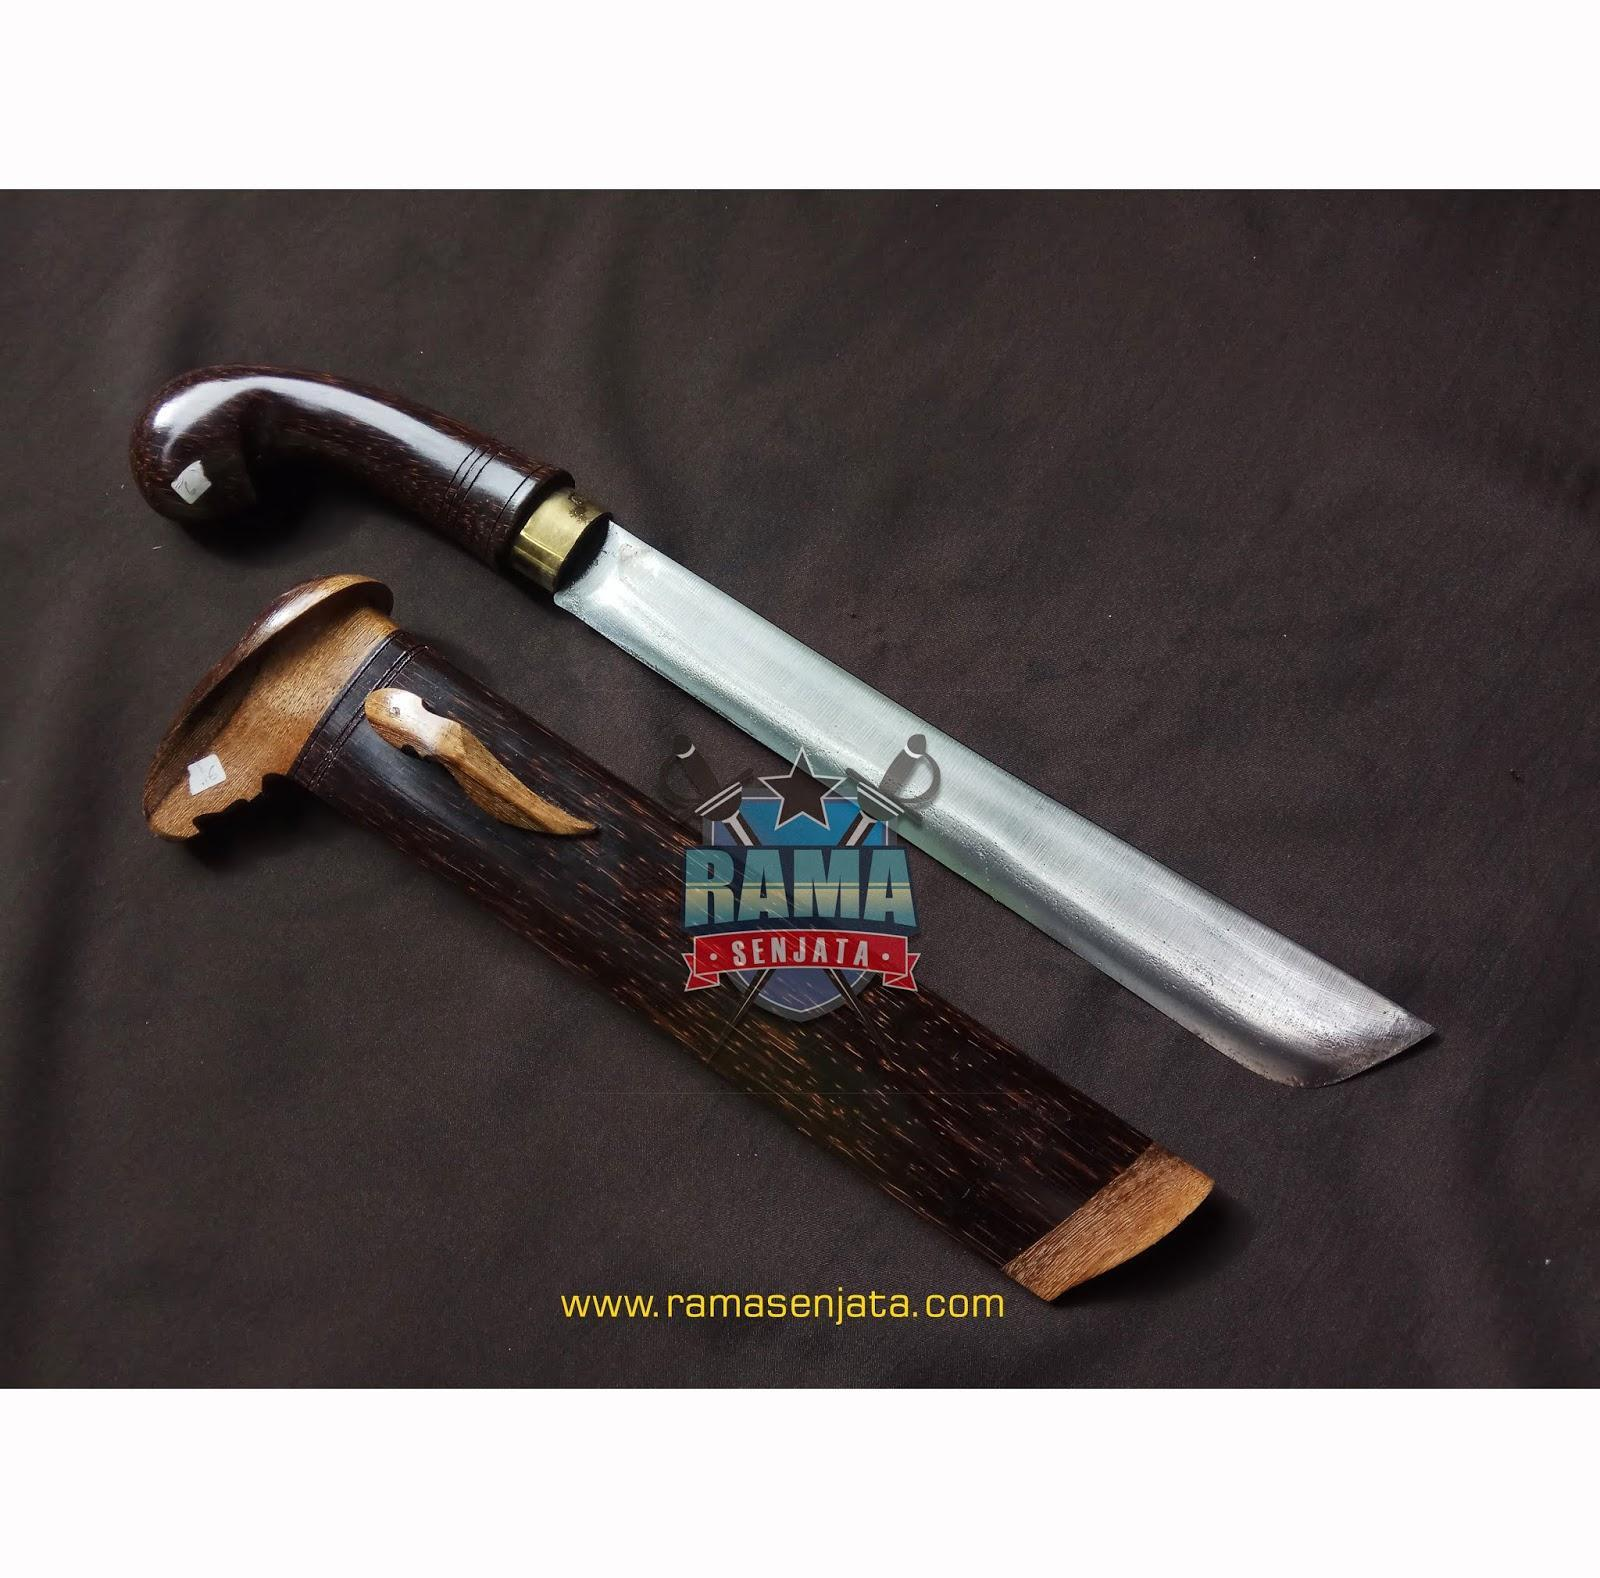facao: (78, 327, 1521, 1131)
